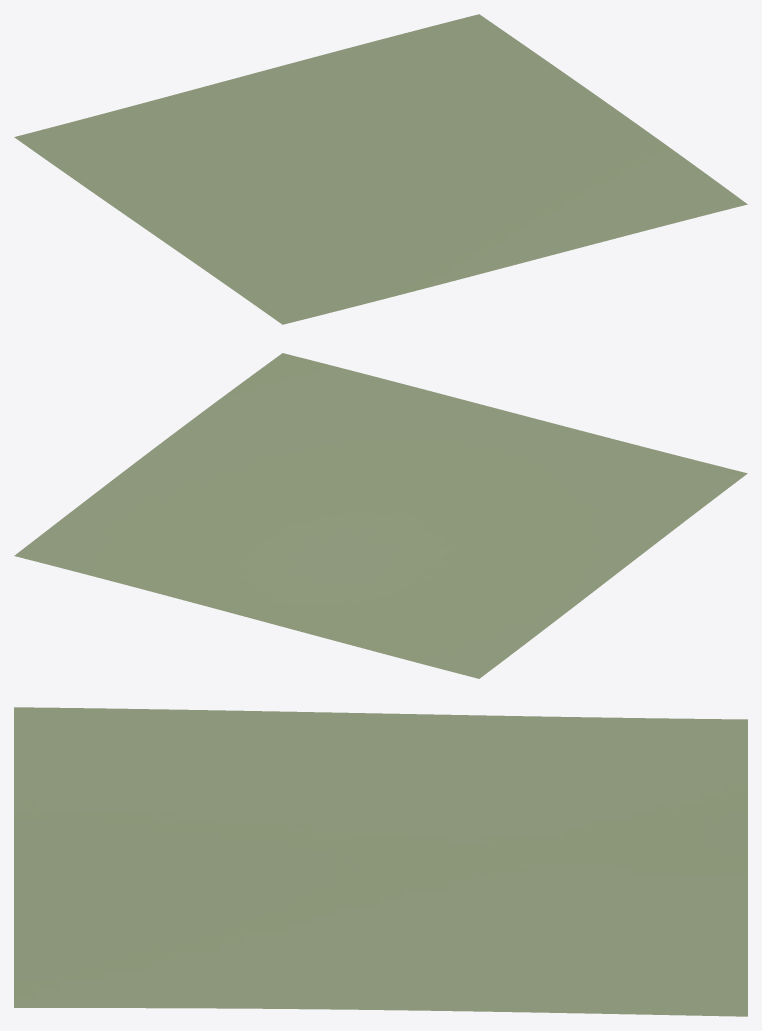
Rendered from expanse-31-31.glb.
The picture shows the model from 3 angles, top to bottom: view 1: azimuth 30°, elevation 25°; view 2: azimuth 150°, elevation 25°; view 3: azimuth 270°, elevation 25°; orthographic projection. The views are drawn at different scales.
Parts seen in each view (by area): view 1: expanse-31-31; view 2: expanse-31-31; view 3: expanse-31-31.
Boxes of the visible parts, x1=… form: expanse-31-31: x1=14, y1=14, x2=747, y2=324; expanse-31-31: x1=14, y1=353, x2=747, y2=678; expanse-31-31: x1=14, y1=707, x2=747, y2=1016.
Bounding box in the file's own units: 256 × 8.32 × 256.
